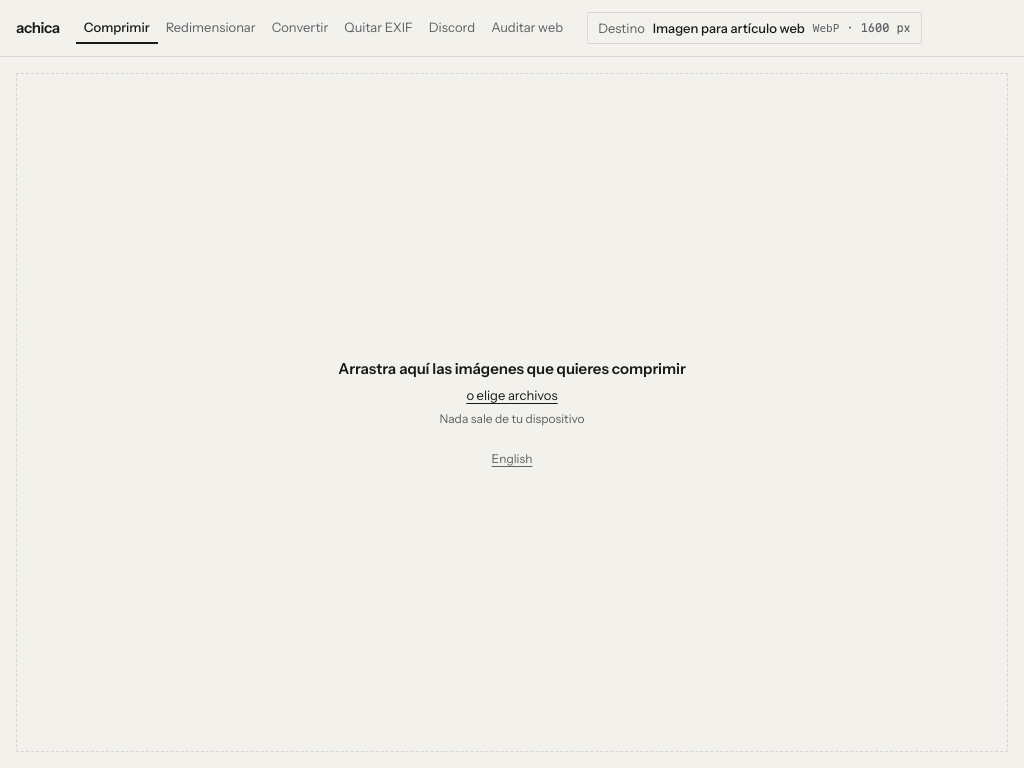
Scenario: the destination picker › offers only our own advice, and names the one profile that converts
Click the button "Destino Imagen para artículo web WebP · 1600 px".
click(754, 28)  # box [587, 12, 922, 44]
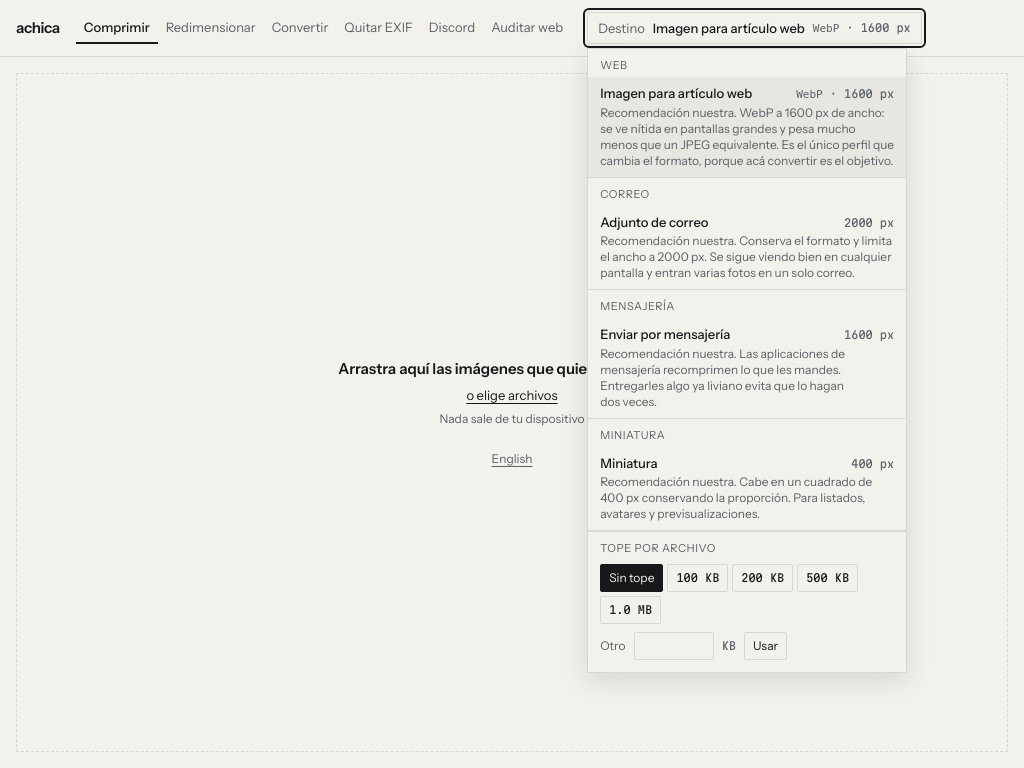
Expected: the text "Adjunto de correo" is shown, [600, 214, 708, 230]
Expected: the text "Es el único perfil que cambia el formato" is shown, [600, 104, 894, 168]
